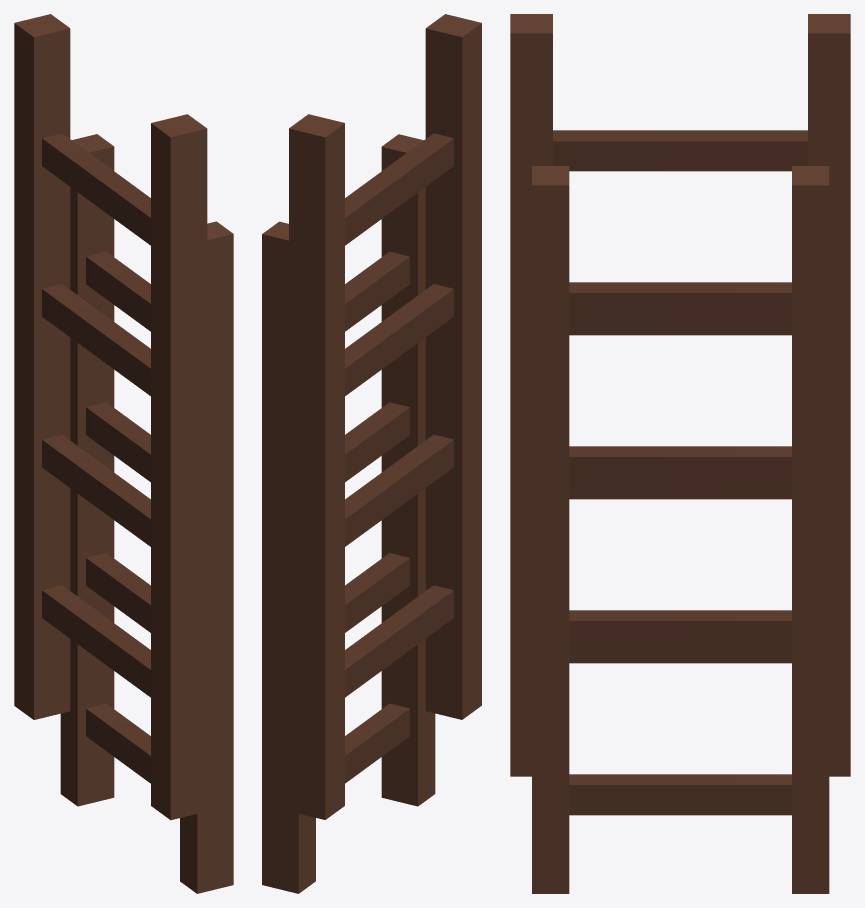
File: FireEscape_E_4.glb
3 renders of one model, left to right at view 1: azimuth 30°, elevation 25°; view 2: azimuth 150°, elevation 25°; view 3: azimuth 270°, elevation 25°, orthographic. The views are drawn at different scales.
Visible parts, largest first — view 1: FireEscape_E_4; view 2: FireEscape_E_4; view 3: FireEscape_E_4.
Part boxes in pixels (x1,y1,x2,y2): FireEscape_E_4: [14, 14, 233, 893]; FireEscape_E_4: [262, 14, 481, 893]; FireEscape_E_4: [510, 14, 850, 893].
Size of the model in its own units: 0.1851 by 1.87 by 0.6863.
Materials: 1 (1 with a texture image).
